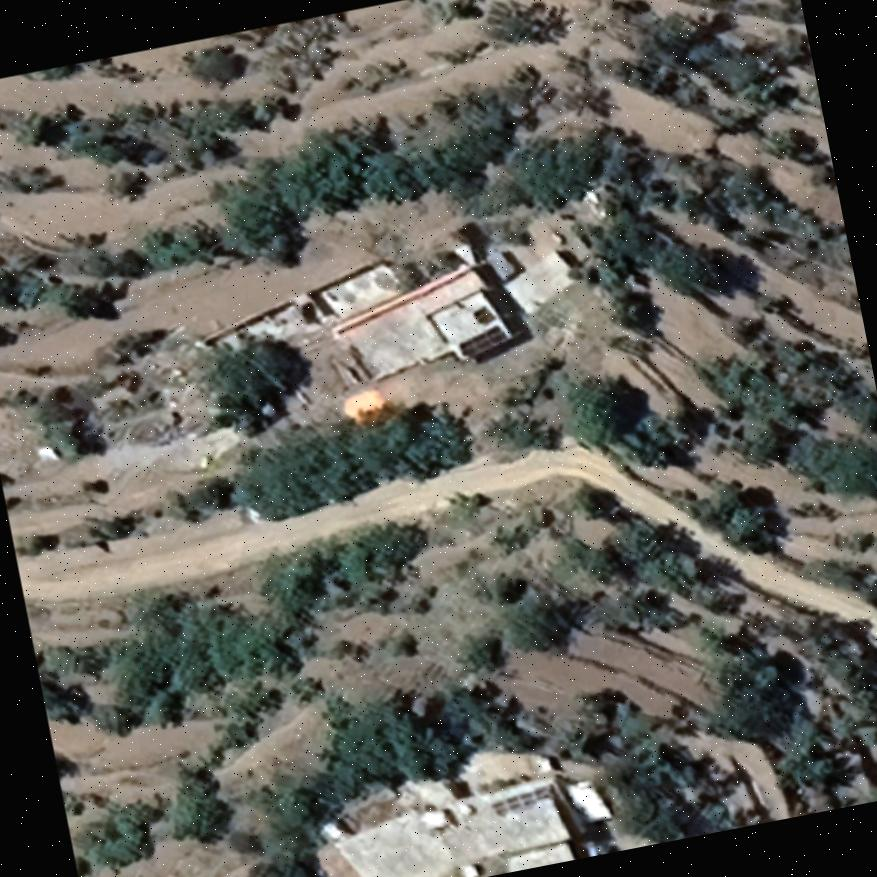Solarpanel: (485, 781, 558, 821), (453, 320, 512, 362), (466, 302, 498, 329)
